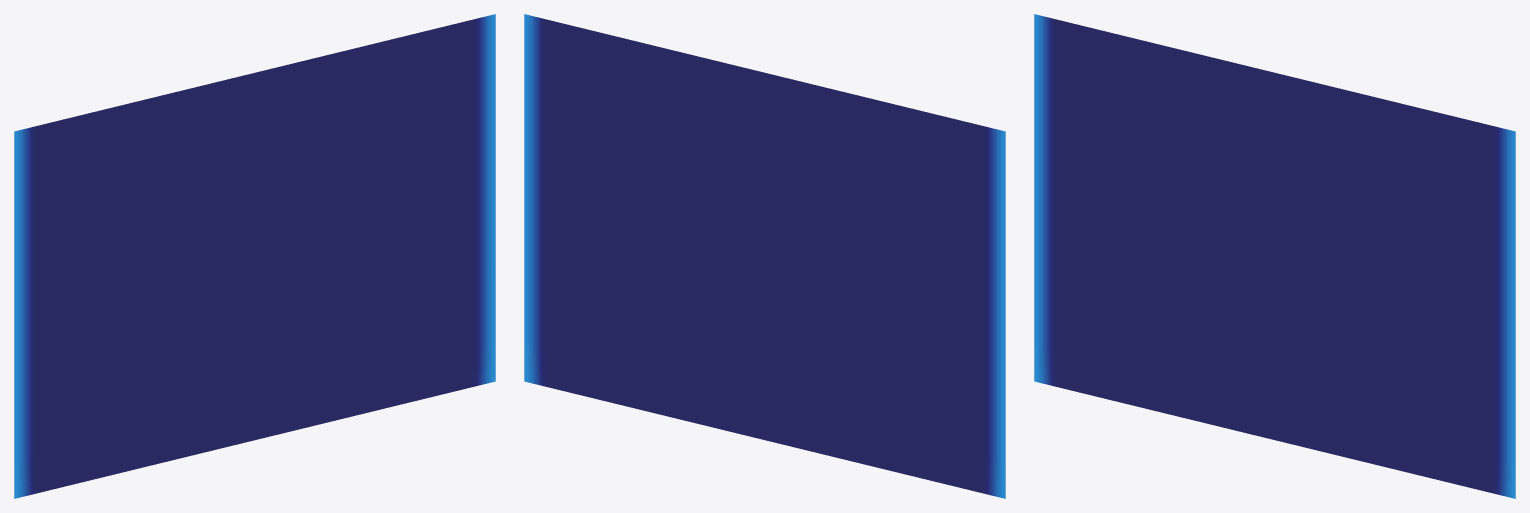
Rendered from pb_forcefield_cy_large.glb.
3 views of the same model, side by side, from view 1: azimuth 30°, elevation 25°; view 2: azimuth 150°, elevation 25°; view 3: azimuth 330°, elevation 25° (orthographic).
Visible parts, largest first — view 1: pb_forcefield_cy_large_0; view 2: pb_forcefield_cy_large_0; view 3: pb_forcefield_cy_large_0.
Boxes of the visible parts, x1=… form: pb_forcefield_cy_large_0: x1=14, y1=14, x2=495, y2=498; pb_forcefield_cy_large_0: x1=524, y1=14, x2=1005, y2=498; pb_forcefield_cy_large_0: x1=1034, y1=14, x2=1515, y2=498.
Bounding box in the file's own units: 811 × 592 × 0.000112.
Materials: 1 (1 with a texture image).
